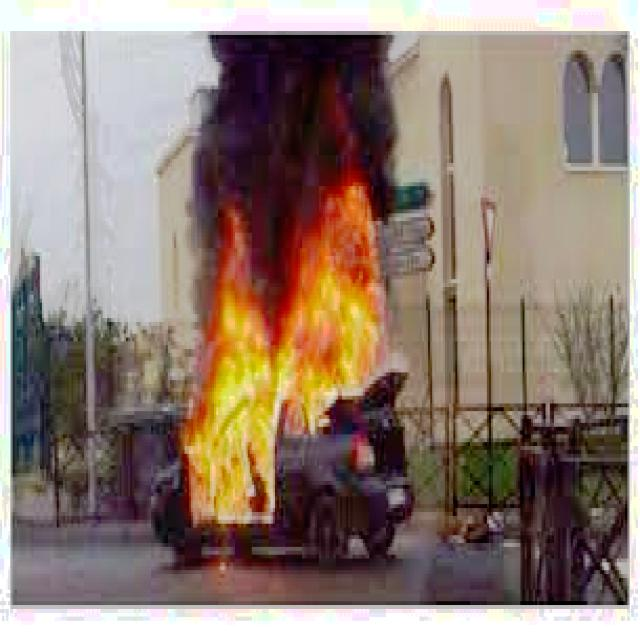api: (182, 168, 400, 532)
